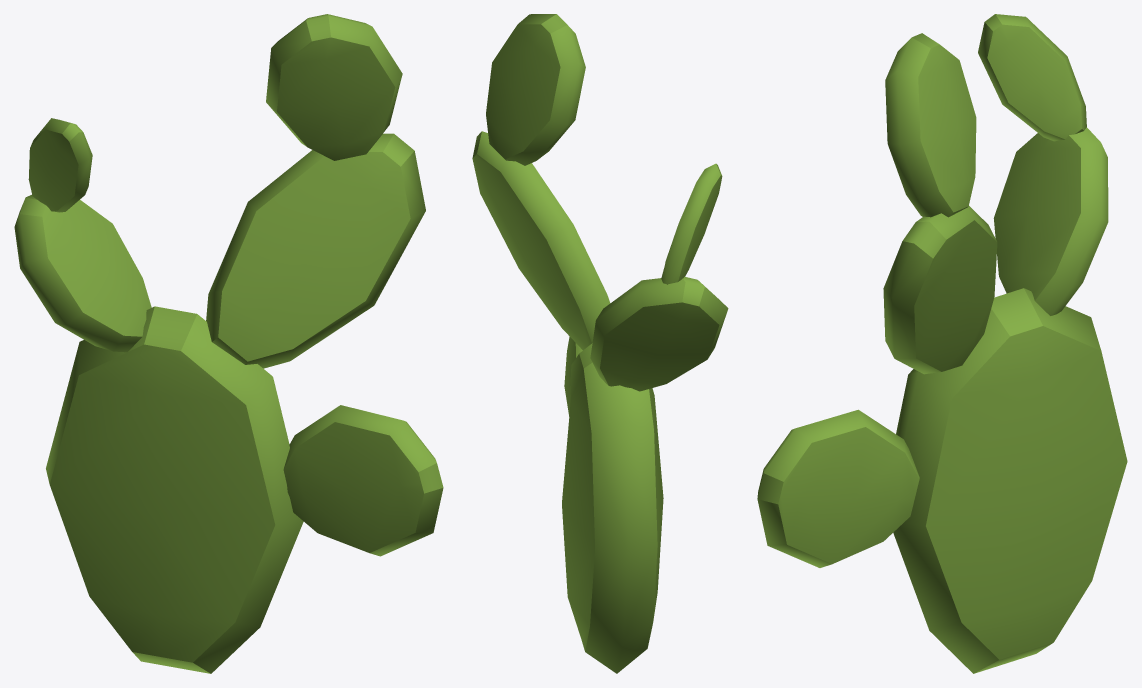
The model's file is 仙人掌5.fbx.
The picture shows the model from 3 angles, left to right: view 1: azimuth 30°, elevation 25°; view 2: azimuth 150°, elevation 25°; view 3: azimuth 270°, elevation 25°; orthographic projection. The views are drawn at different scales.
Visible parts, largest first — view 1: pCube11; view 2: pCube11; view 3: pCube11.
Part boxes in pixels (box(x1,y1,x2,y2)): pCube11: box(14, 14, 443, 673); pCube11: box(472, 14, 728, 673); pCube11: box(757, 14, 1127, 673).
Size of the model in its own units: 135 by 254 by 125.
